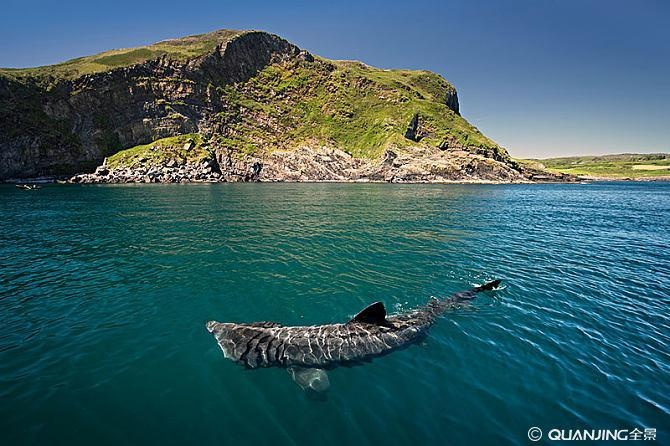fish: (201, 260, 511, 395)
